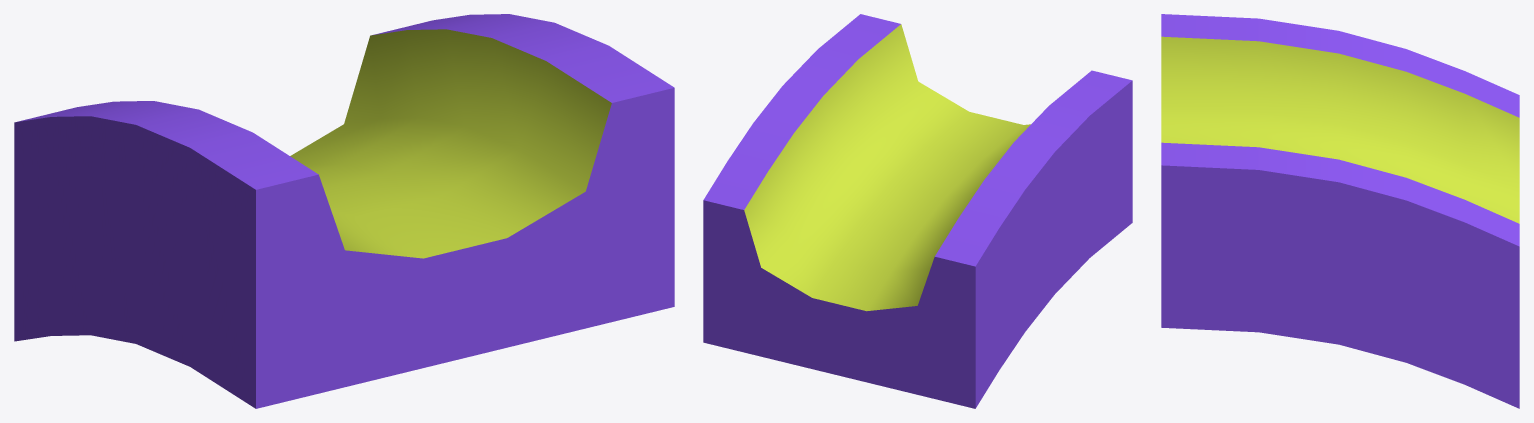
The model's file is rampEnd_B.fbx.
The picture shows the model from 3 angles, left to right: view 1: azimuth 30°, elevation 25°; view 2: azimuth 150°, elevation 25°; view 3: azimuth 270°, elevation 25°; orthographic projection. The views are drawn at different scales.
Parts seen in each view (by area): view 1: rampEnd_B; view 2: rampEnd_B; view 3: rampEnd_B.
Boxes of the visible parts, left/top/right/bottom form: rampEnd_B: left=14, top=14, right=674, bottom=408; rampEnd_B: left=703, top=14, right=1132, bottom=408; rampEnd_B: left=1161, top=14, right=1519, bottom=408.
Size of the model in its own units: 10 by 7.5 by 10.
